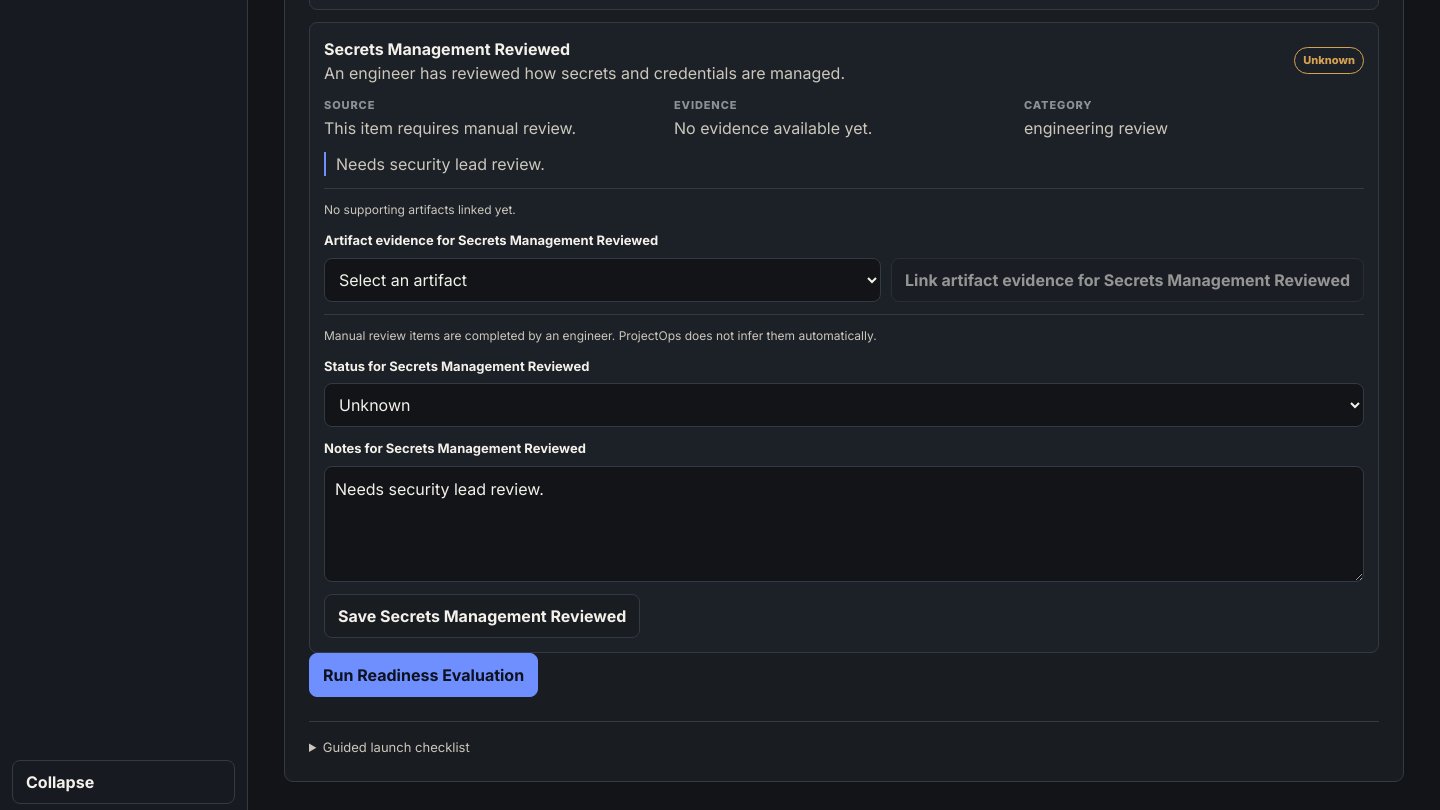
Scenario: Project detail Production Readiness › updates a manual readiness item status and notes
(page scrolled)
Select "Passed" in the dropdown labelled "Status for Secrets Management Reviewed": [844, 405] box [324,383,1364,427]
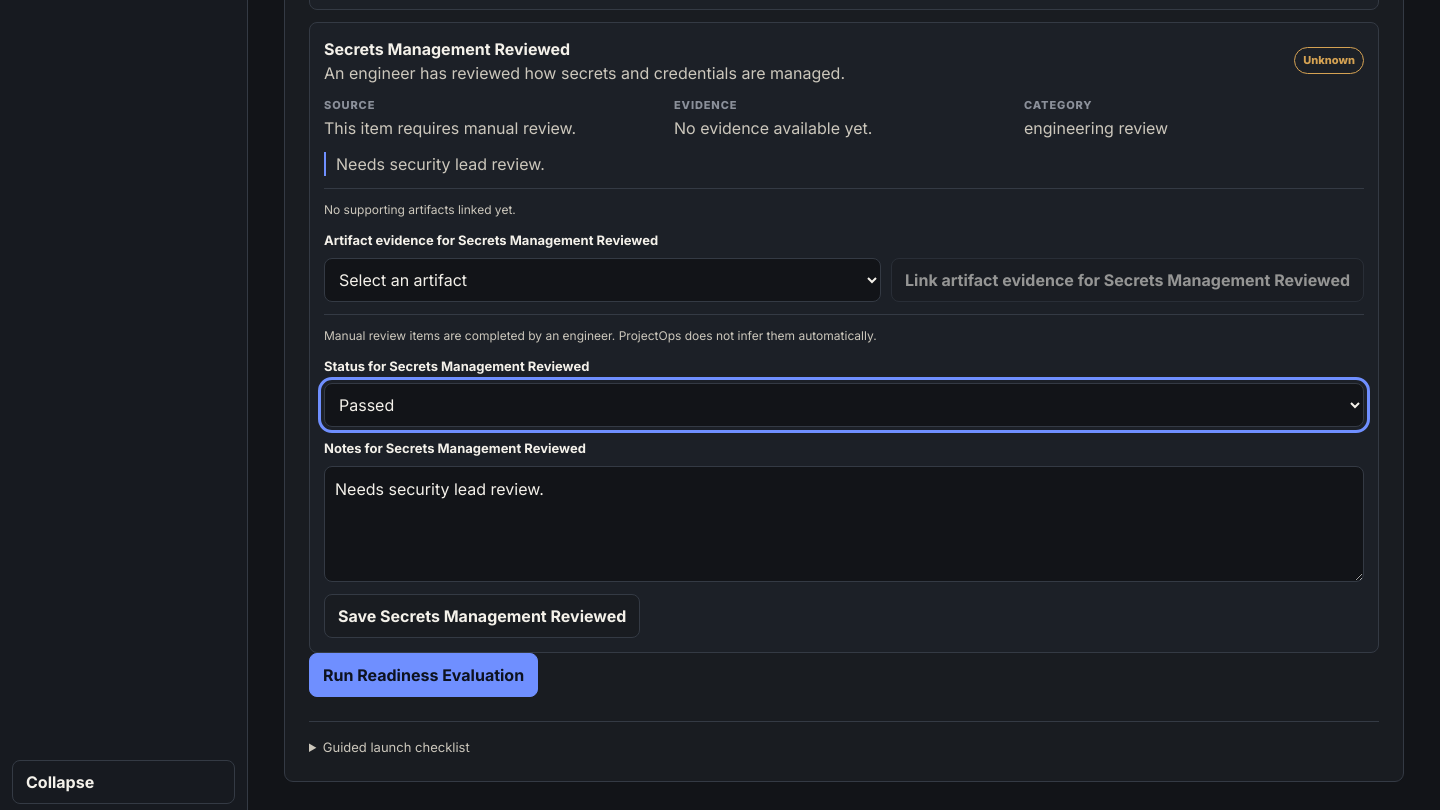
Replace the text in the text box labelled "Notes for Secrets Management Reviewed" with "Reviewed by security lead.": [844, 524] box [324,466,1364,582]
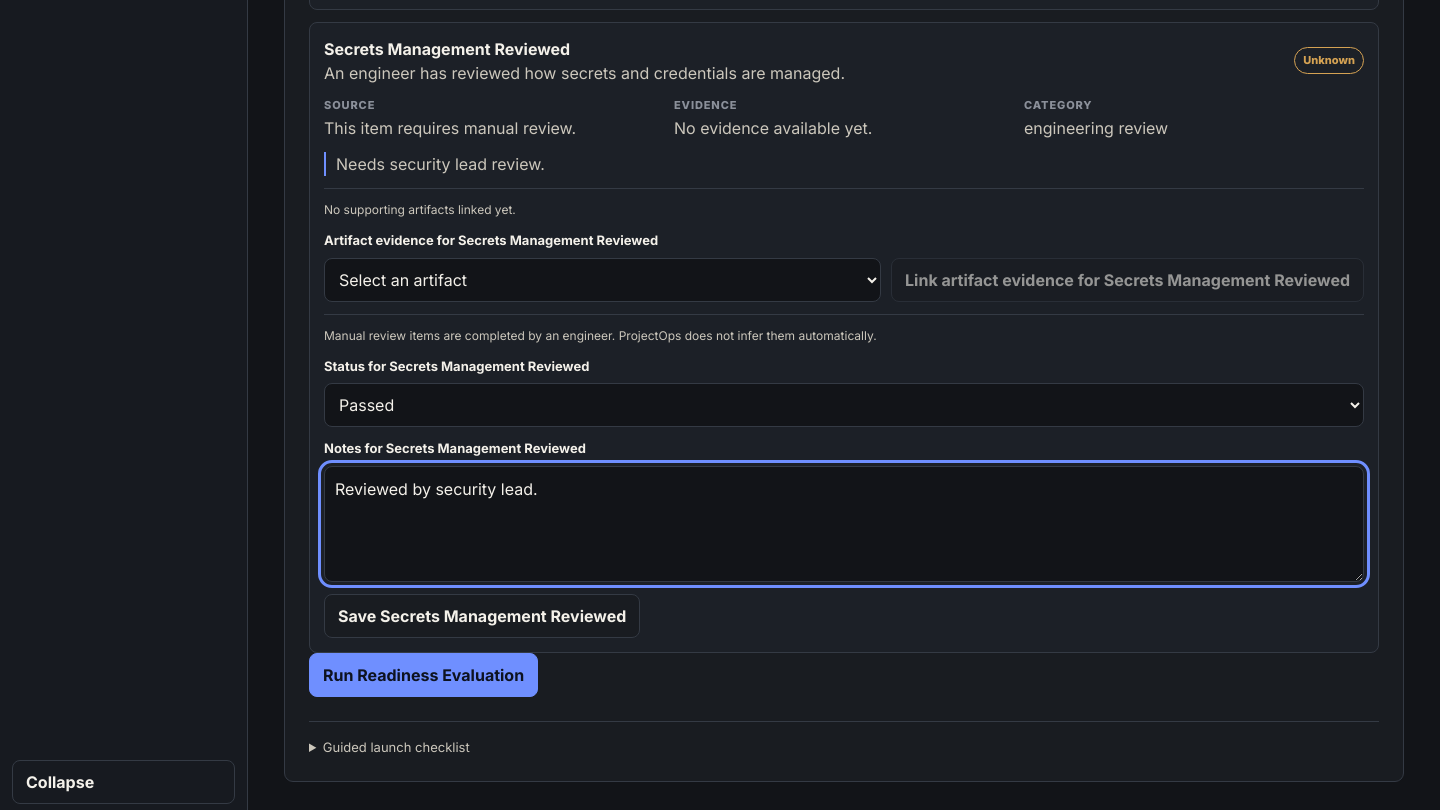
Click the button "Save Secrets Management Reviewed": [482, 616] box [324,594,640,638]
(page scrolled)
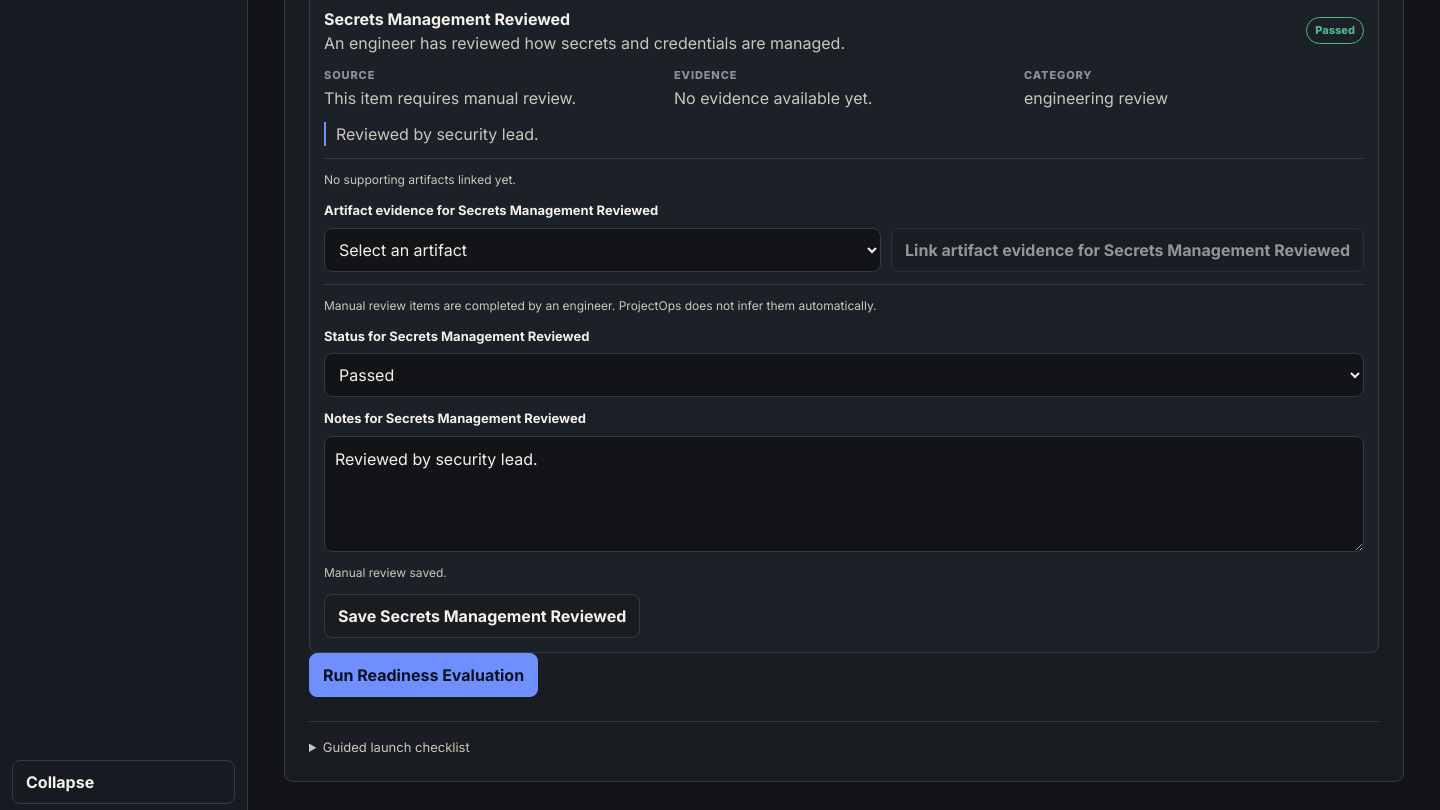
Expected: the text "Manual review saved." is shown, [324,565,447,580]
Expected: the text "Passed" is shown, [1306,17,1364,44]
